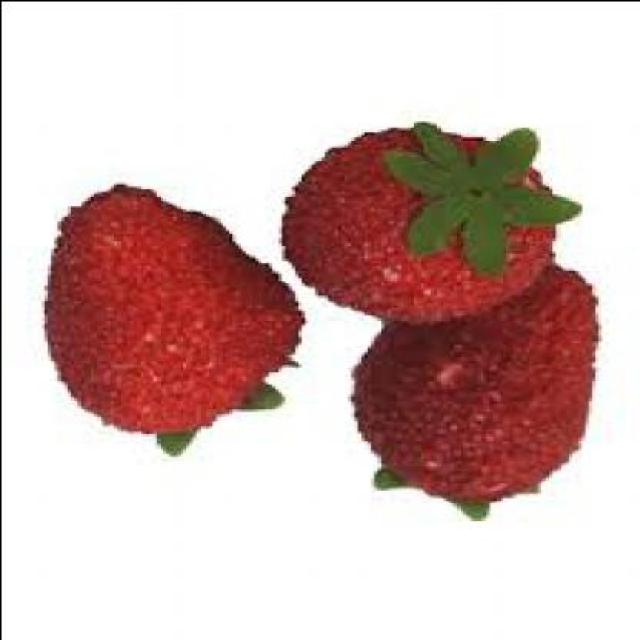BIODEGRADABLE: (36, 186, 301, 457), (350, 262, 593, 524), (280, 126, 551, 329)
